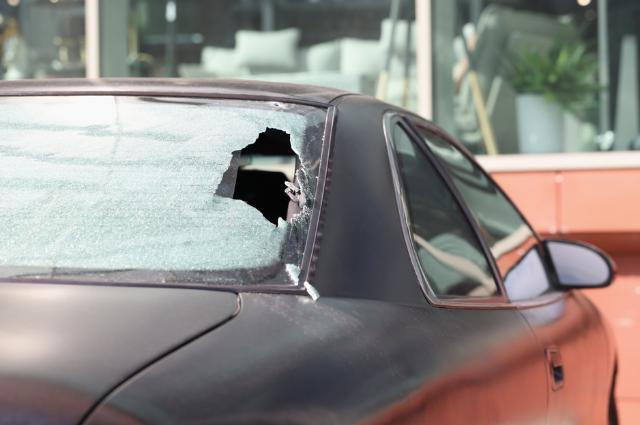Windshield: (3, 93, 305, 289)
